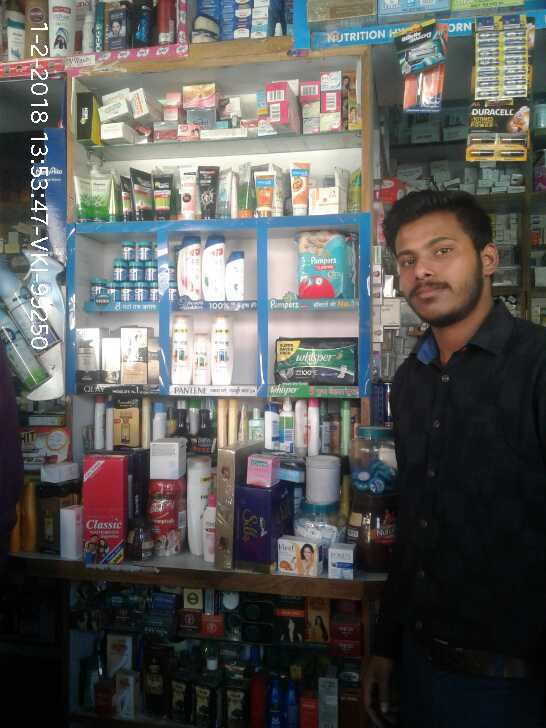vicks: (84, 233, 161, 304)
